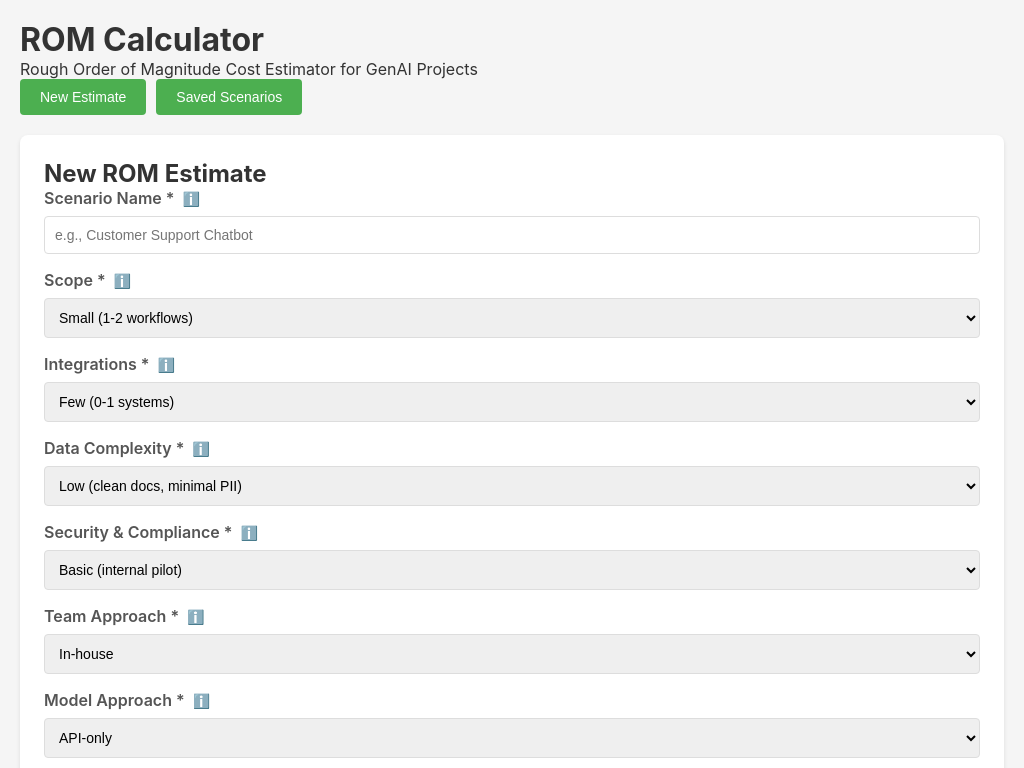
it: App component › navigation to scenario list works
Click the button "Saved Scenarios". click: click(229, 97)
box: [156,79,302,115]
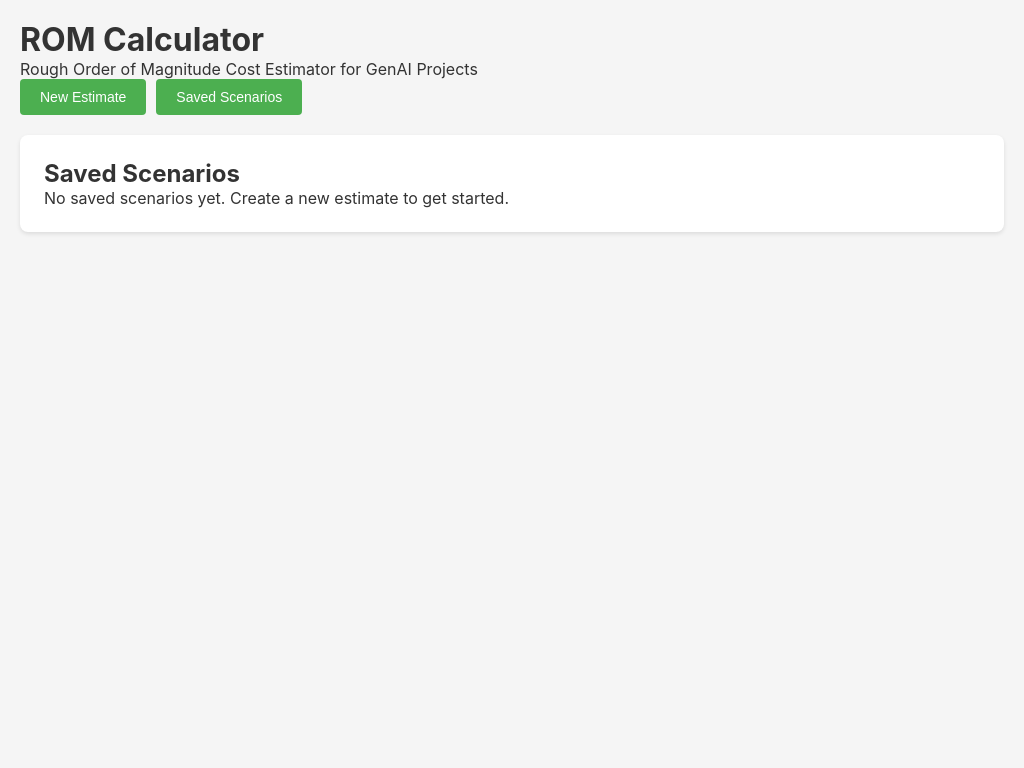
Expected: the text "No saved scenarios yet" is shown, [44,188,509,208]
